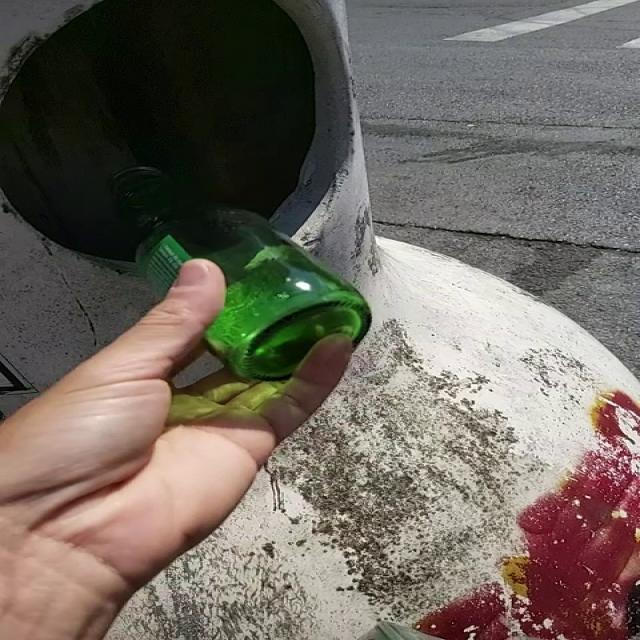Glass: (108, 166, 371, 381)
